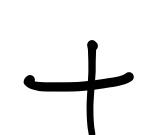plus: (23, 40, 133, 135)
